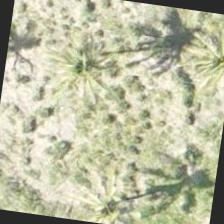Kelapa_Sawit: (32, 18, 134, 120), (69, 160, 168, 223), (167, 18, 223, 117)
